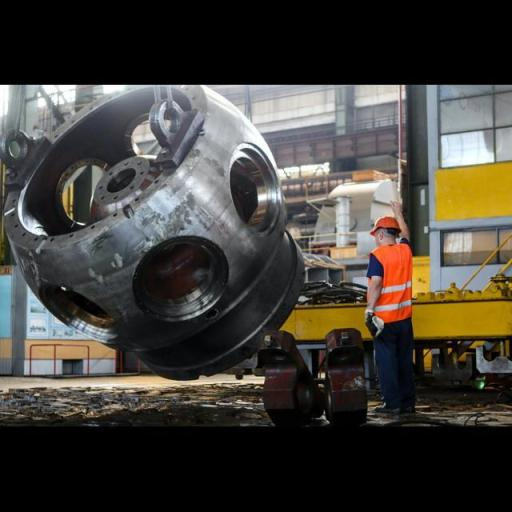Person: (332, 192, 446, 430)
boots: (366, 396, 432, 420)
gloves: (359, 307, 389, 338)
helmet: (368, 212, 406, 233)
none: (386, 193, 414, 221)
vest: (365, 242, 418, 324)
